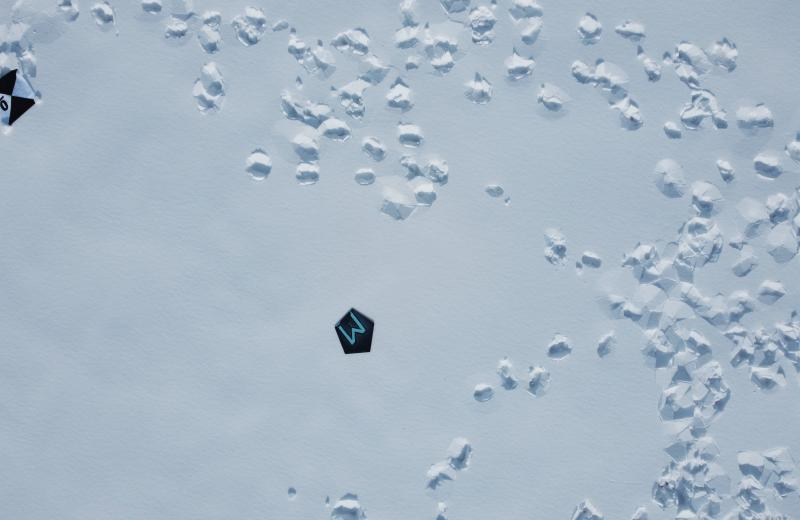Pentagon: (334, 306, 376, 356)
